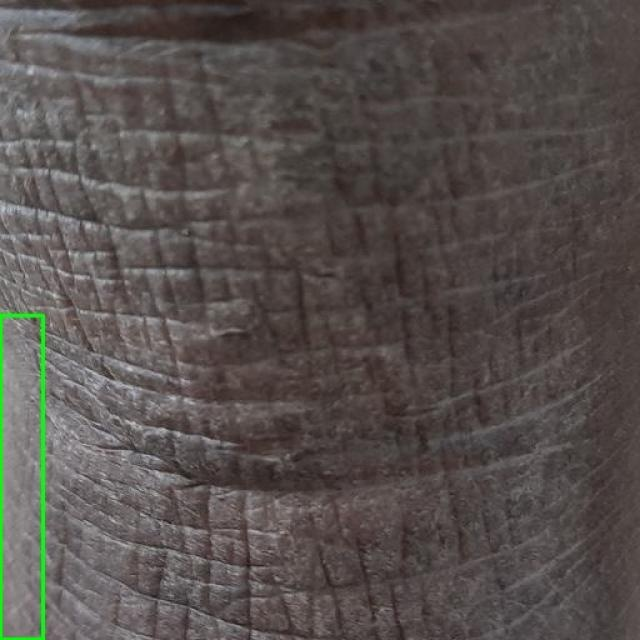Eczema: (0, 315, 42, 639)
